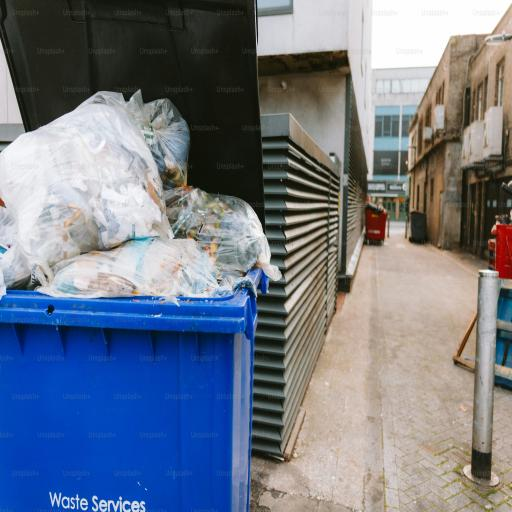Contenedor_Desbordado: (0, 0, 267, 512)
